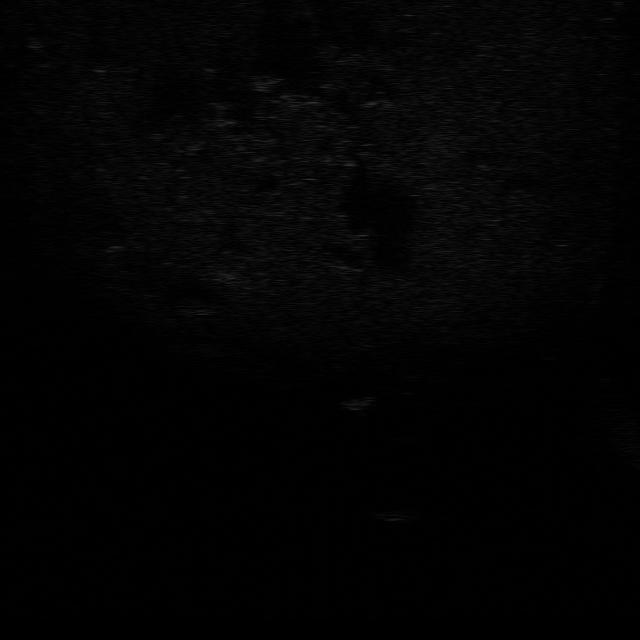cube: (338, 394, 377, 420)
square cage: (374, 505, 416, 526)
